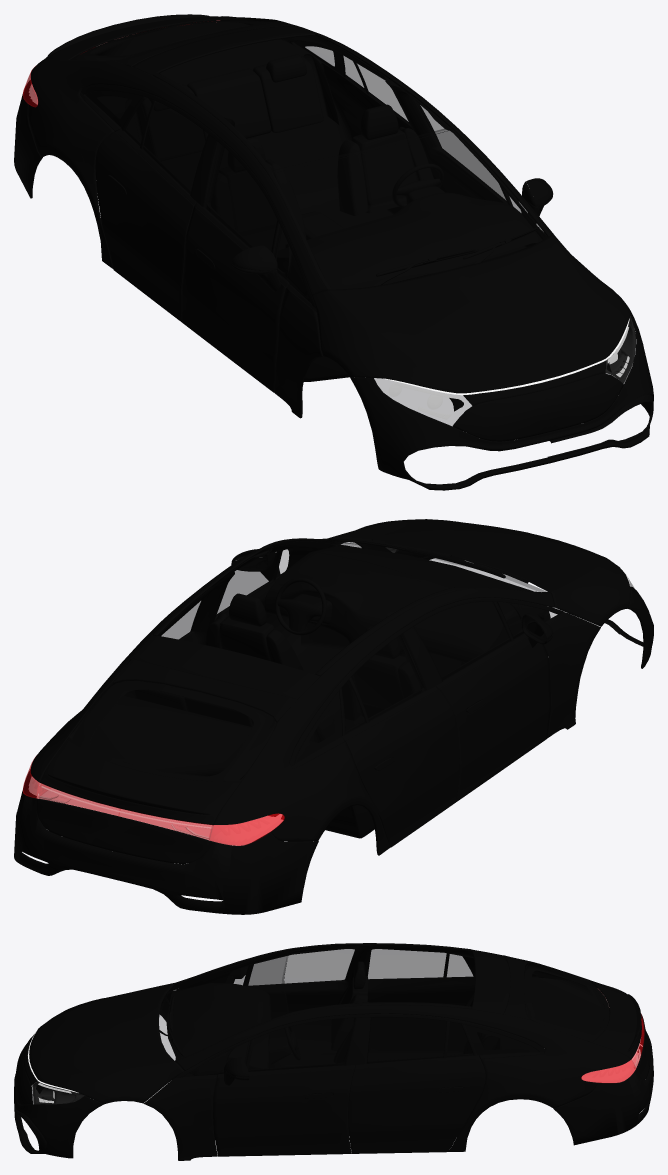
3 views of the same model, one above another, from view 1: azimuth 30°, elevation 25°; view 2: azimuth 150°, elevation 25°; view 3: azimuth 270°, elevation 25° (orthographic). The views are drawn at different scales.
Parts seen in each view (by area): view 1: Plane.002, windshield, BUMPER.001, Plane.004, BUMPER.004, Plane.001, headlight.002, HEADLIGHT, whipper.003, grill.001, front headlight.003; view 2: Plane.002, Plane.004, BUMPER.004, BUMPER.001, windshield, whipper.003, steer.001, steer, in light.004; view 3: Plane.002, Plane.004, windshield, BUMPER.004, BUMPER.001, Plane.001, front headlight.003, steer.002, grill.001.
Part boxes in pixels (x1,y1,x2,y2): Plane.002: (14, 14, 653, 490); windshield: (272, 127, 547, 289); BUMPER.001: (125, 54, 428, 283); Plane.004: (90, 17, 545, 381); BUMPER.004: (276, 192, 542, 289); Plane.001: (374, 316, 636, 426); headlight.002: (463, 361, 605, 405); HEADLIGHT: (383, 318, 629, 419); whipper.003: (372, 227, 539, 286); grill.001: (548, 394, 653, 458); front headlight.003: (605, 315, 635, 383); Plane.002: (14, 519, 653, 914); Plane.004: (69, 541, 545, 838); BUMPER.004: (264, 545, 550, 725); BUMPER.001: (124, 593, 420, 742); windshield: (273, 538, 546, 591); whipper.003: (328, 536, 528, 583); steer.001: (277, 599, 322, 631); steer: (275, 577, 326, 635); in light.004: (29, 777, 281, 841); Plane.002: (14, 943, 653, 1160); Plane.004: (178, 945, 606, 1139); windshield: (159, 949, 288, 1060); BUMPER.004: (166, 983, 288, 1076); BUMPER.001: (284, 961, 499, 1066); Plane.001: (31, 1081, 83, 1103); front headlight.003: (32, 1081, 84, 1104); steer.002: (269, 1036, 291, 1064); grill.001: (14, 1096, 46, 1152).
Bounding box in the file's own units: 1.53 × 0.9091 × 3.69.
